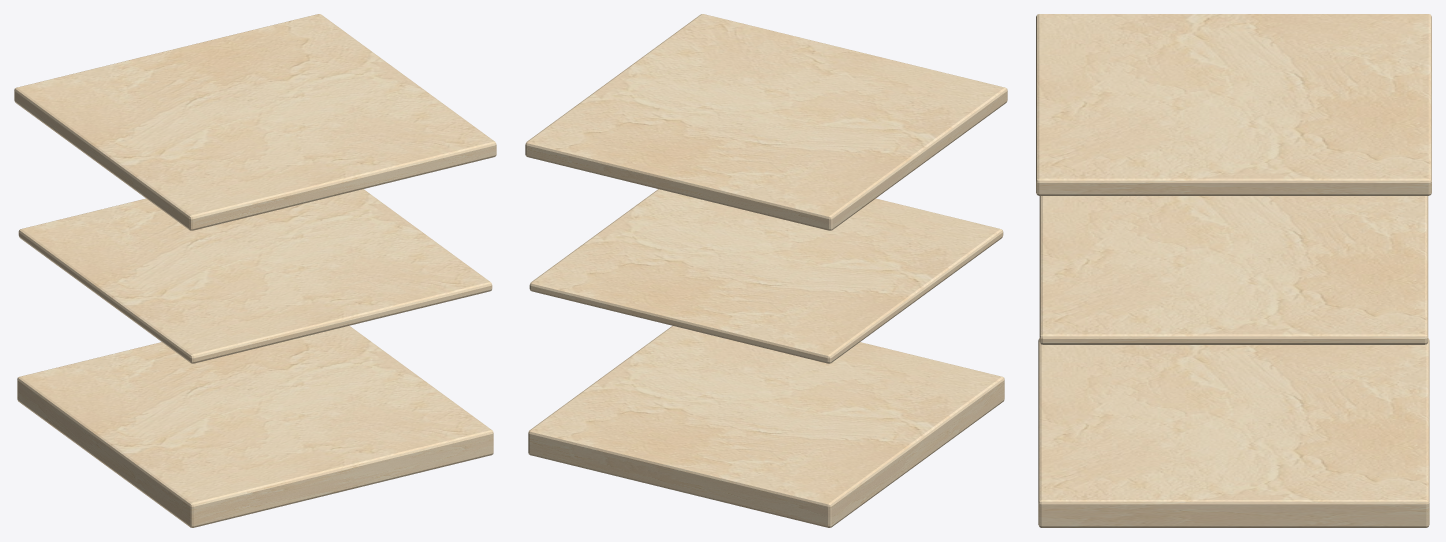
File: stucco-trim.glb
3 renders of one model, left to right at view 1: azimuth 30°, elevation 25°; view 2: azimuth 150°, elevation 25°; view 3: azimuth 270°, elevation 25°, orthographic. The views are drawn at different scales.
Parts seen in each view (by area): view 1: stucco-trim_LOD0; view 2: stucco-trim_LOD0; view 3: stucco-trim_LOD0.
Boxes of the visible parts, box(x1,y1,x2,y2) form: stucco-trim_LOD0: box(14, 14, 496, 527); stucco-trim_LOD0: box(525, 14, 1007, 527); stucco-trim_LOD0: box(1036, 14, 1431, 527).
Size of what is drawn, in the model's own units: 8.35 by 8.15 by 8.35.
Materials: 1 (1 with a texture image).
